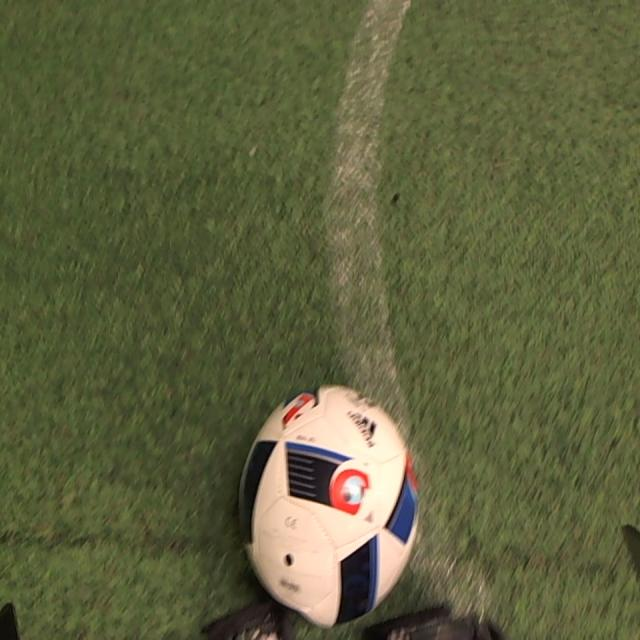ball: (240, 386, 420, 630)
